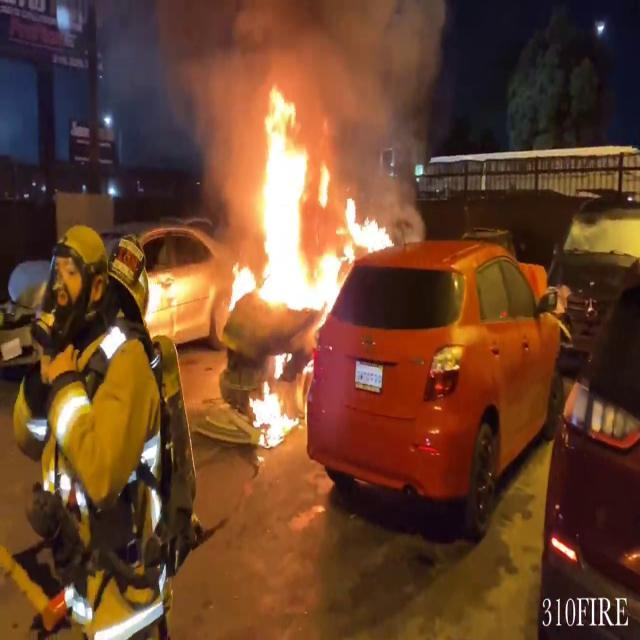Fire: (224, 84, 394, 318), (245, 360, 295, 448)
Smoke: (158, 0, 454, 156)
